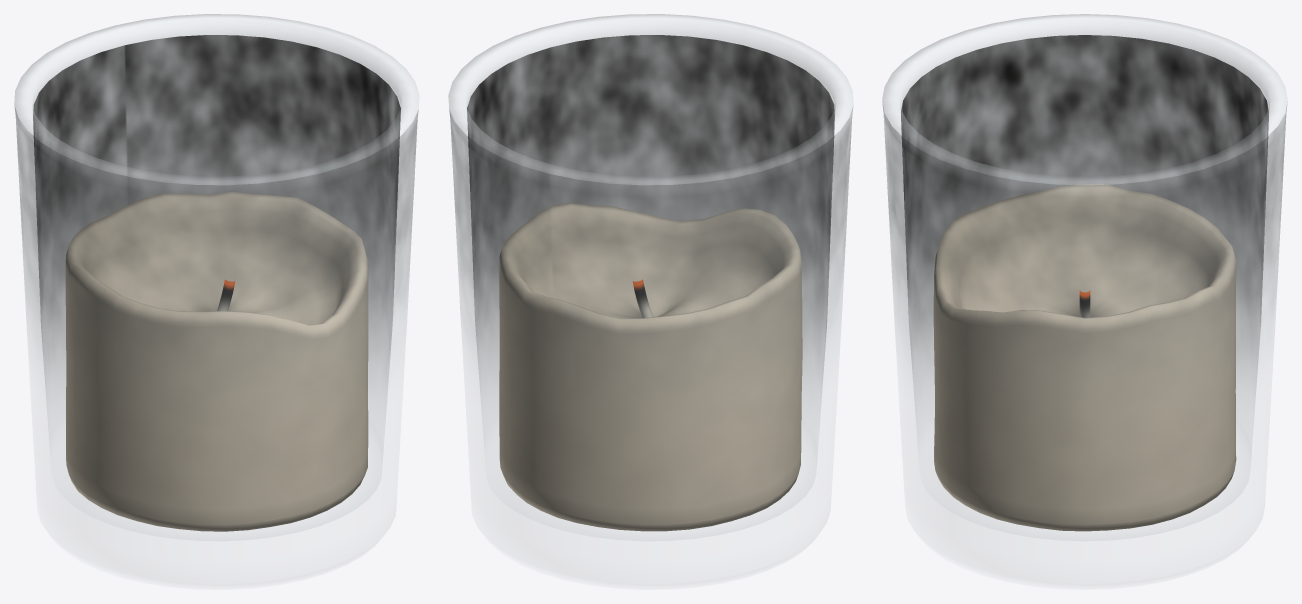
File: candle_votive.glb
3 renders of one model, left to right at view 1: azimuth 30°, elevation 25°; view 2: azimuth 150°, elevation 25°; view 3: azimuth 270°, elevation 25°, orthographic.
Parts seen in each view (by area): view 1: candle_votive; view 2: candle_votive; view 3: candle_votive.
Boxes of the visible parts, x1=… form: candle_votive: x1=14, y1=14, x2=419, y2=541; candle_votive: x1=448, y1=14, x2=853, y2=541; candle_votive: x1=882, y1=14, x2=1287, y2=541.
Bounding box in the file's own units: 0.0564 × 0.0642 × 0.0564.
Materials: 2 (2 with a texture image).
